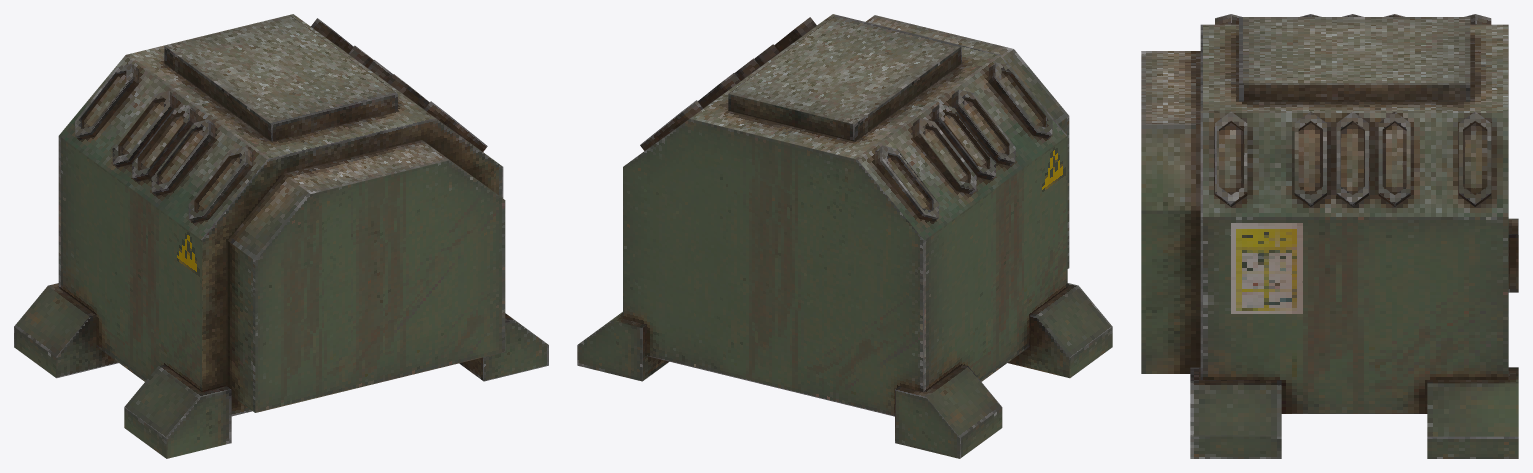
The model's file is machinery_1.glb.
The picture shows the model from 3 angles, left to right: view 1: azimuth 30°, elevation 25°; view 2: azimuth 150°, elevation 25°; view 3: azimuth 270°, elevation 25°; orthographic projection. The views are drawn at different scales.
Visible parts, largest first — view 1: Machinery_1; view 2: Machinery_1; view 3: Machinery_1.
Part boxes in pixels (x1,y1,x2,y2): Machinery_1: (14, 14, 548, 458); Machinery_1: (577, 14, 1112, 458); Machinery_1: (1141, 14, 1518, 458).
Size of the model in its own units: 2.55 by 1.82 by 2.02.
1 material, 1 textured.
